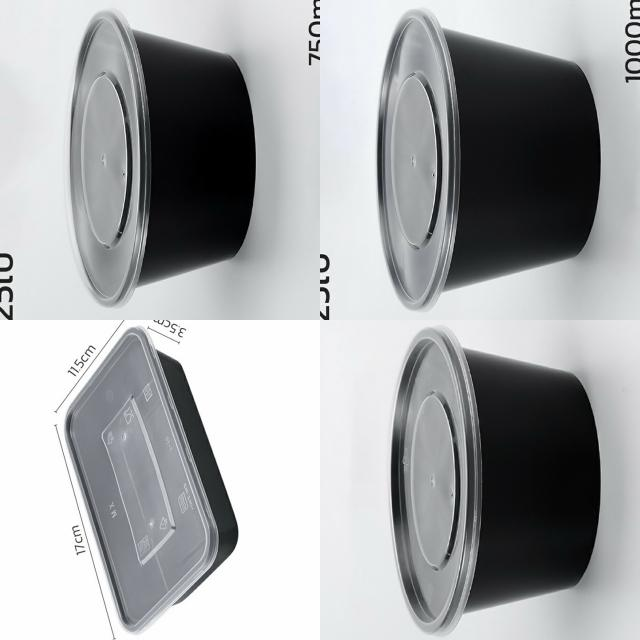Single-Use-Plastic: (378, 10, 600, 309), (391, 328, 600, 635), (69, 11, 255, 307), (66, 326, 238, 632)
